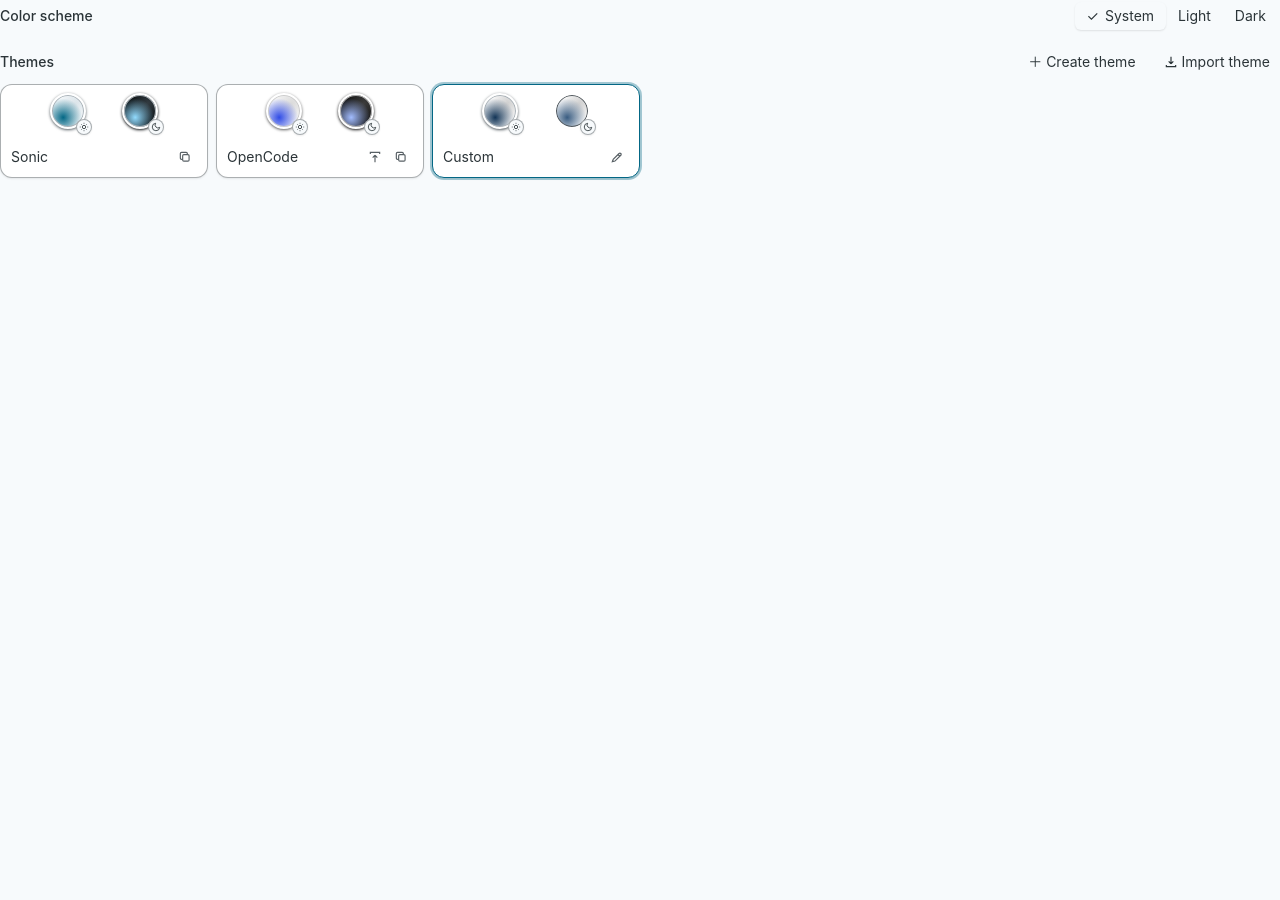
Test: AppearanceSettings › reports only adjustments attributable to selected controls
This screenshot has width=1280, height=900.
What coordinates should you click on to do the following:
click the button "＋ Create theme"
I would click on:
 (1082, 62)
Its box is [1018, 48, 1146, 76].
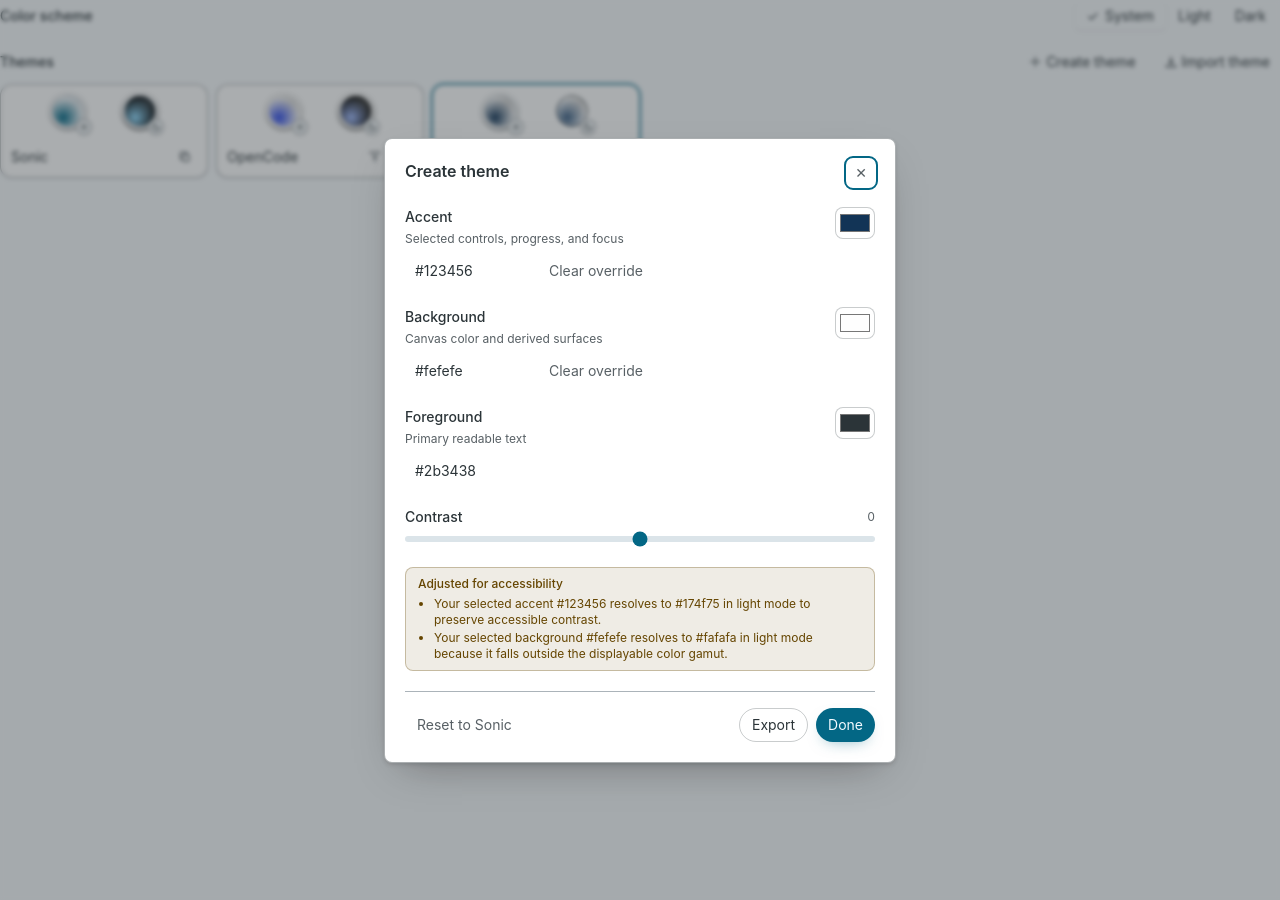
Expected: the message shows "Your selected accent #123456 resolves to #174f75", [434, 596, 810, 626]
Expected: the message shows "preserve accessible contrast", [434, 596, 810, 626]
Expected: the message shows "Your selected background #fefefe resolves to #fafafa", [434, 630, 813, 660]
